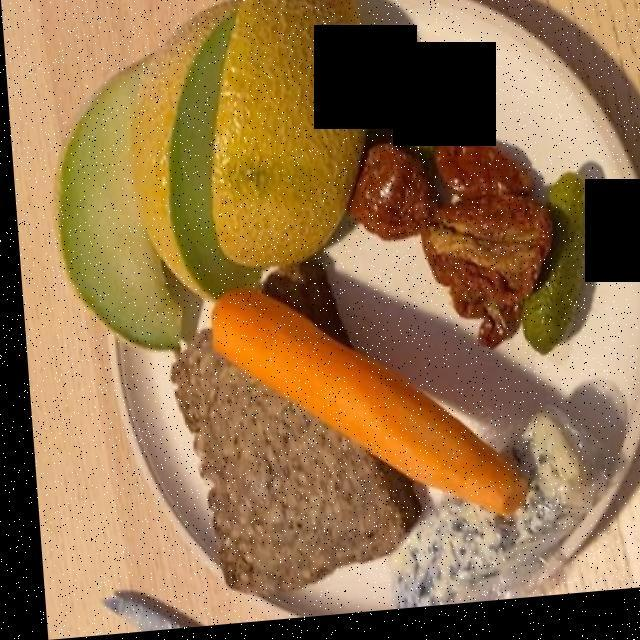carrot: (209, 298, 506, 513)
cheese: (367, 405, 602, 606)
cucumber-pickled: (391, 62, 586, 386)
melon: (54, 0, 430, 355)
tomato: (347, 137, 552, 365)
